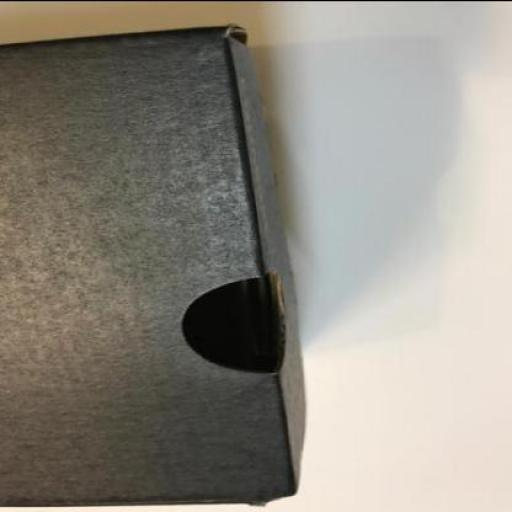cardboard: (1, 25, 309, 507)
